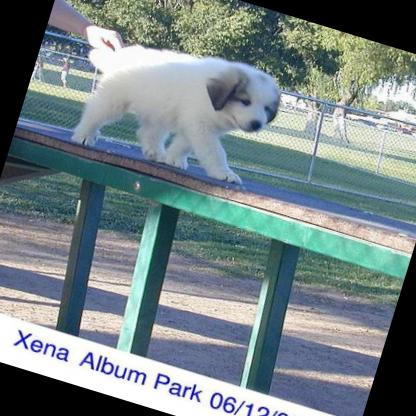Great_Pyrenees: (58, 17, 288, 197)
